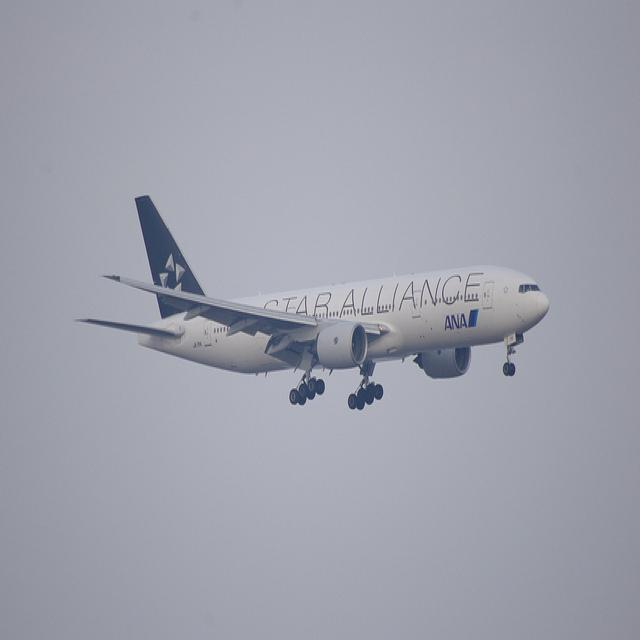airplane: (79, 199, 543, 406)
